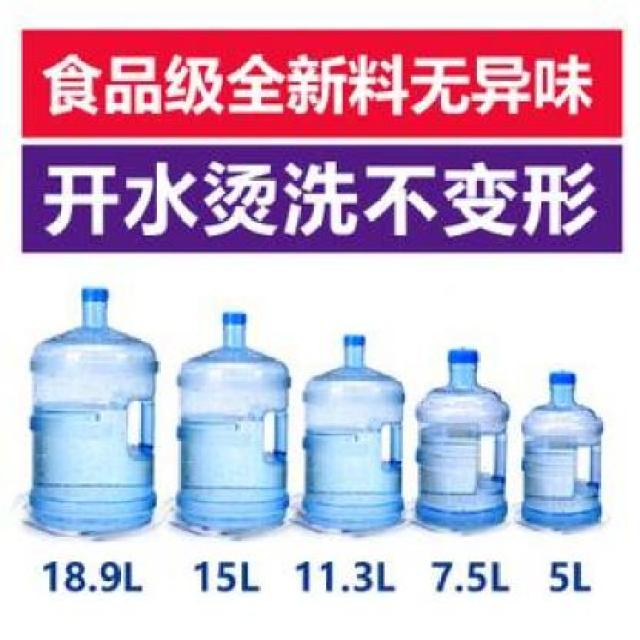coolerbottle: (23, 282, 163, 540), (172, 303, 296, 541), (297, 326, 410, 536), (408, 343, 518, 534), (517, 367, 608, 536)
